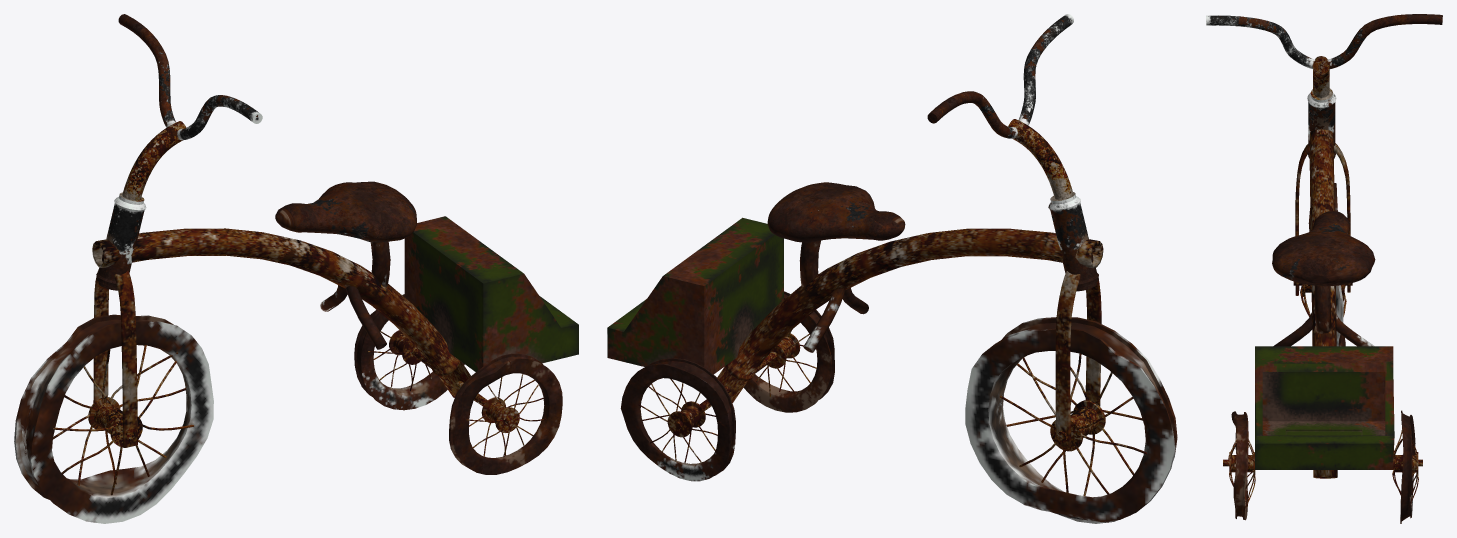
Rendered from SM_Bike.fbx.
The picture shows the model from 3 angles, left to right: view 1: azimuth 30°, elevation 25°; view 2: azimuth 150°, elevation 25°; view 3: azimuth 270°, elevation 25°; orthographic projection. The views are drawn at different scales.
Visible parts, largest first — view 1: SM_Bike_Baked; view 2: SM_Bike_Baked; view 3: SM_Bike_Baked.
Part boxes in pixels (bbox=[...]): SM_Bike_Baked: bbox=[14, 14, 578, 523]; SM_Bike_Baked: bbox=[607, 14, 1177, 523]; SM_Bike_Baked: bbox=[1206, 14, 1442, 523].
Size of the model in its own units: 167 by 136 by 74.68.
1 material, 1 textured.
